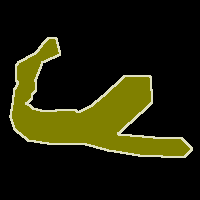tie: (10, 38, 192, 157)
